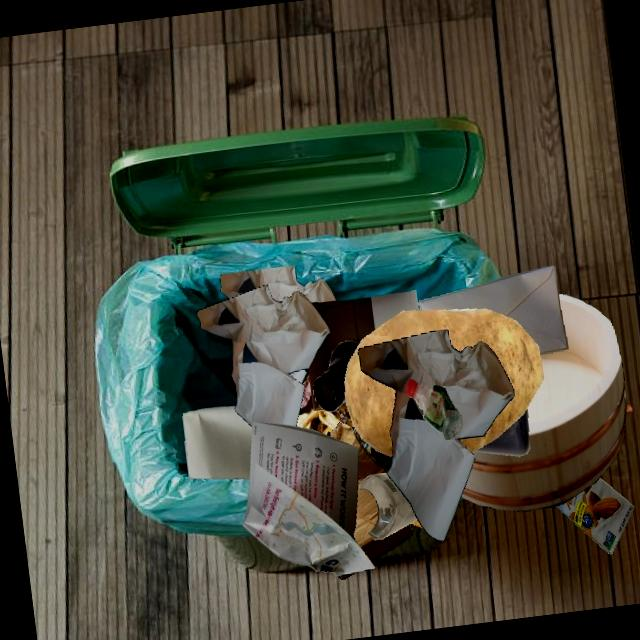biowaste: (344, 308, 543, 457), (296, 375, 359, 435), (626, 404, 633, 413)
cardboard: (308, 289, 418, 410), (329, 421, 413, 562), (555, 477, 634, 554), (418, 308, 419, 310)
combustible waste: (460, 293, 626, 511)
glass: (357, 473, 417, 539), (313, 336, 365, 411), (356, 434, 392, 471)
paper: (358, 329, 514, 540), (242, 421, 375, 576), (197, 284, 330, 427), (418, 265, 568, 354), (233, 300, 321, 379), (182, 406, 252, 479), (220, 265, 326, 302)
plastic: (405, 379, 462, 440), (474, 407, 529, 456)
